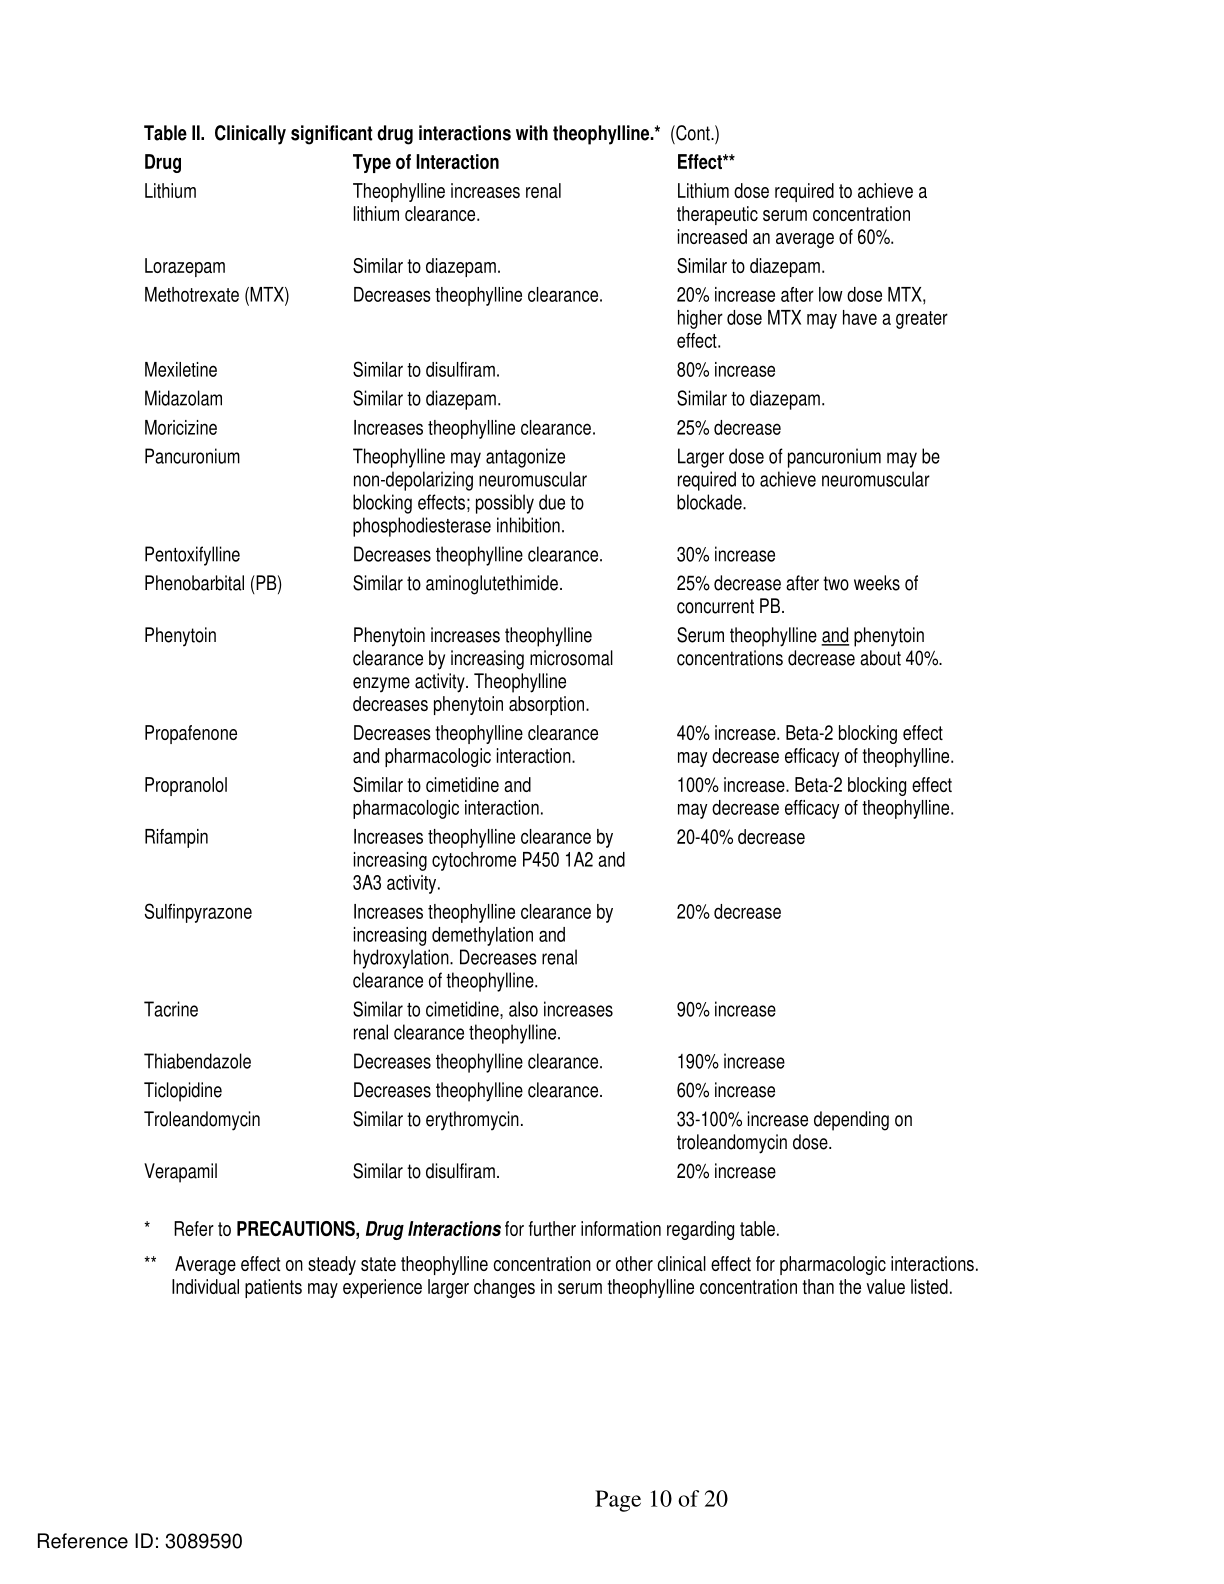nolines: (141, 150, 957, 1191)
